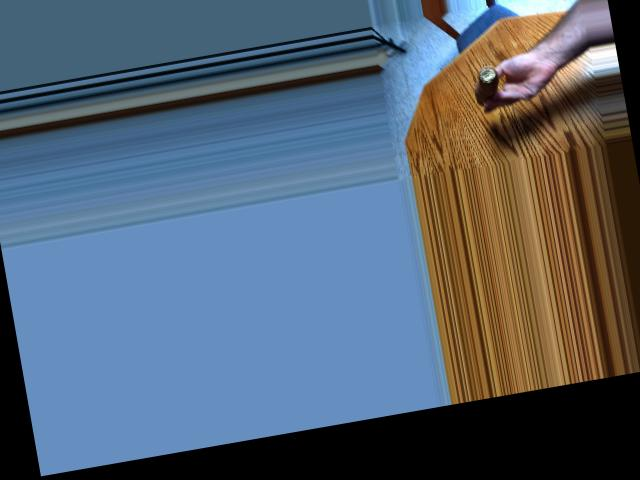sweet_potato: (468, 58, 509, 108)
